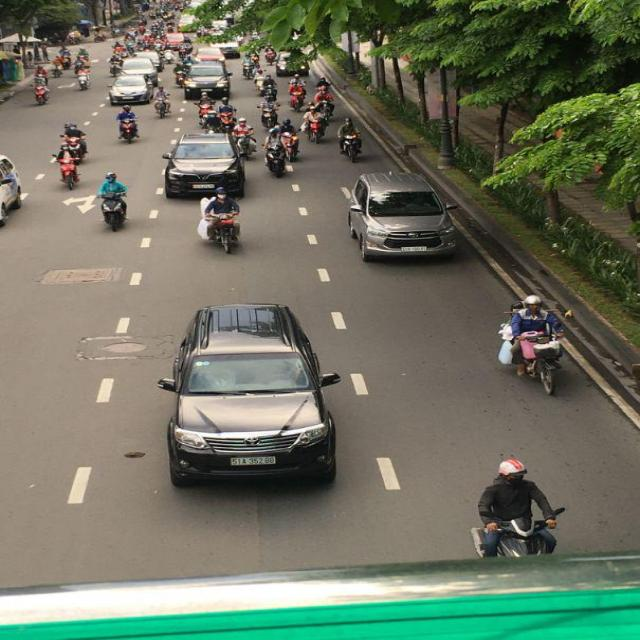car: (160, 305, 342, 485), (344, 171, 460, 266), (161, 133, 246, 202), (182, 62, 232, 102), (108, 74, 155, 107), (120, 57, 160, 79)
motorcycle: (472, 504, 564, 560), (513, 324, 567, 395), (198, 202, 244, 254), (265, 134, 295, 180), (231, 117, 256, 160), (102, 194, 129, 229), (55, 153, 80, 189), (339, 133, 361, 159), (289, 83, 307, 110), (34, 82, 50, 104), (155, 96, 171, 118)
